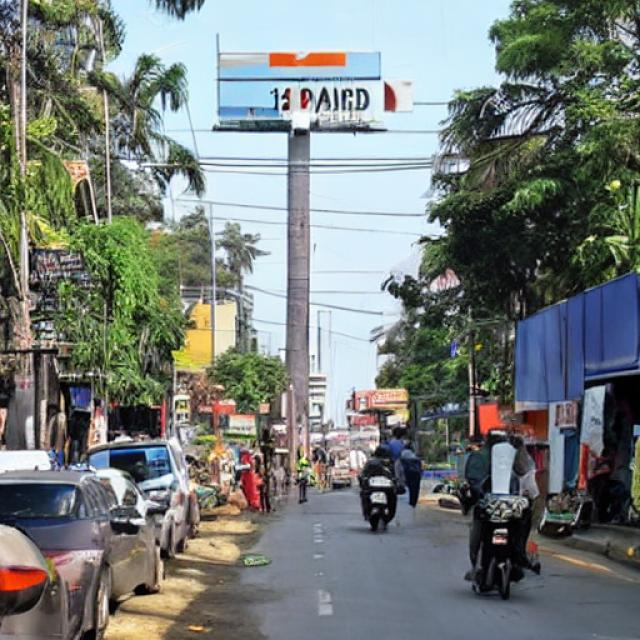Billboard: (213, 43, 392, 136)
